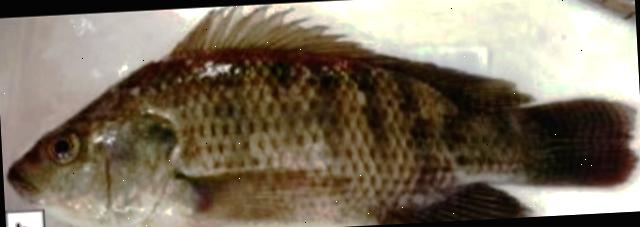Tilapia Lake Virus -TiLV-: (7, 4, 635, 227)
